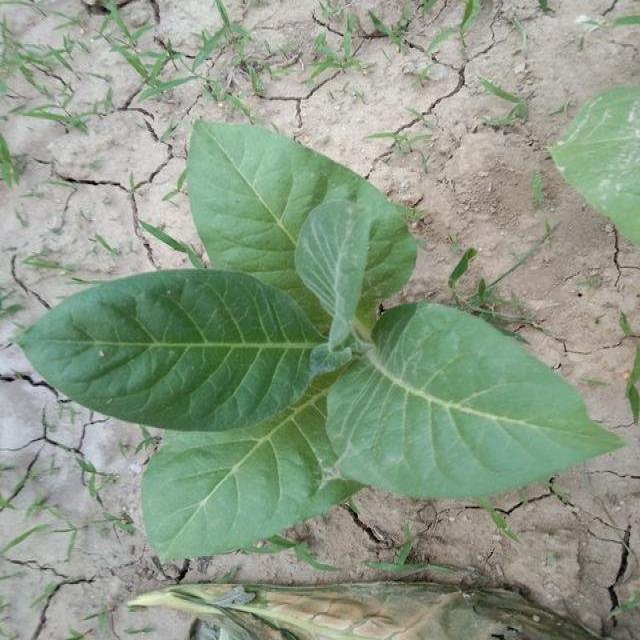crop: (11, 114, 628, 556)
